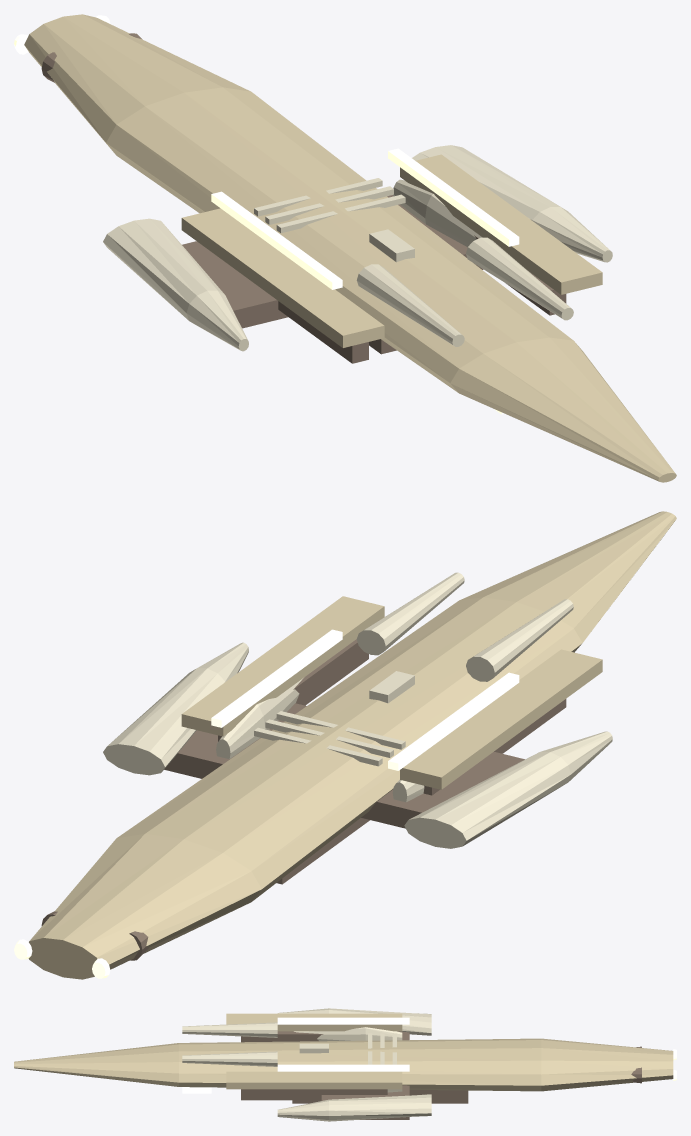
3 views of the same model, one above another, from view 1: azimuth 30°, elevation 25°; view 2: azimuth 150°, elevation 25°; view 3: azimuth 270°, elevation 25° (orthographic). The views are drawn at different scales.
Size of the model in its own units: 6.81 by 1.78 by 18.64.
